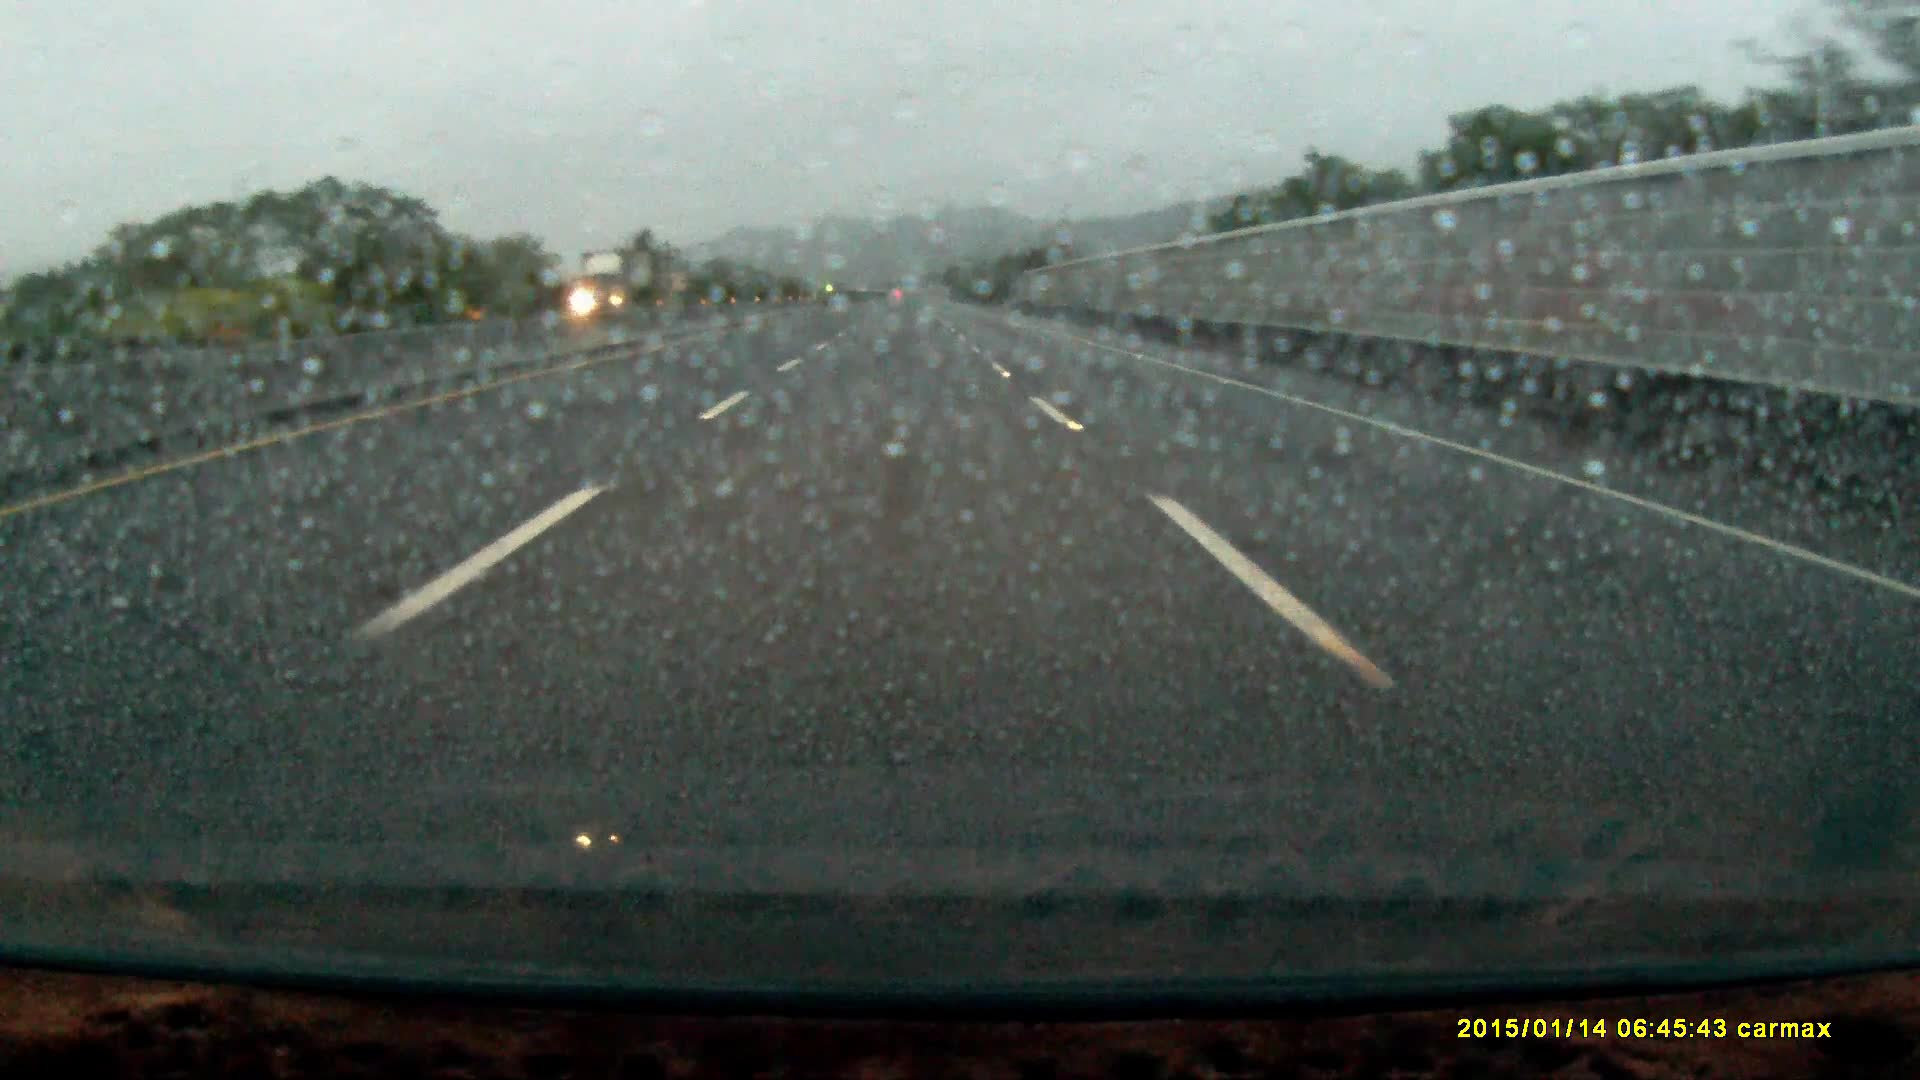vehicle: (571, 257, 662, 318)
